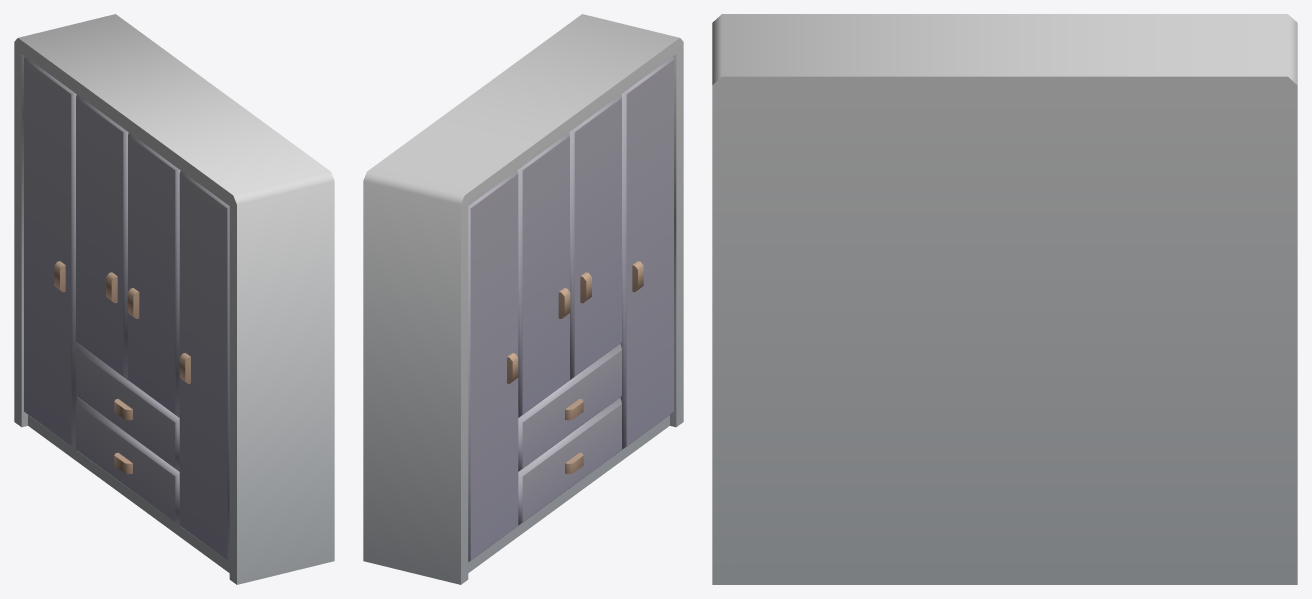
Rendered from cabinet-clothing-widest.glb.
3 views of the same model, side by side, from view 1: azimuth 30°, elevation 25°; view 2: azimuth 150°, elevation 25°; view 3: azimuth 270°, elevation 25° (orthographic). The views are drawn at different scales.
Parts seen in each view (by area): view 1: cabinet-clothing-widest; view 2: cabinet-clothing-widest; view 3: cabinet-clothing-widest.
Boxes of the visible parts, x1,y1,x2,y2 form: cabinet-clothing-widest: [14, 14, 334, 584]; cabinet-clothing-widest: [363, 14, 683, 584]; cabinet-clothing-widest: [712, 14, 1297, 584].
Size of the model in its own units: 0.403 by 1.44 by 1.5.
